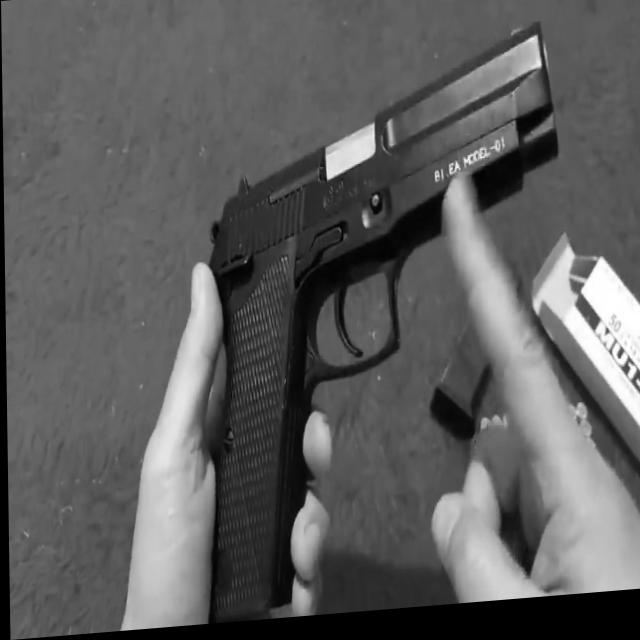handgun: (190, 11, 563, 628)
